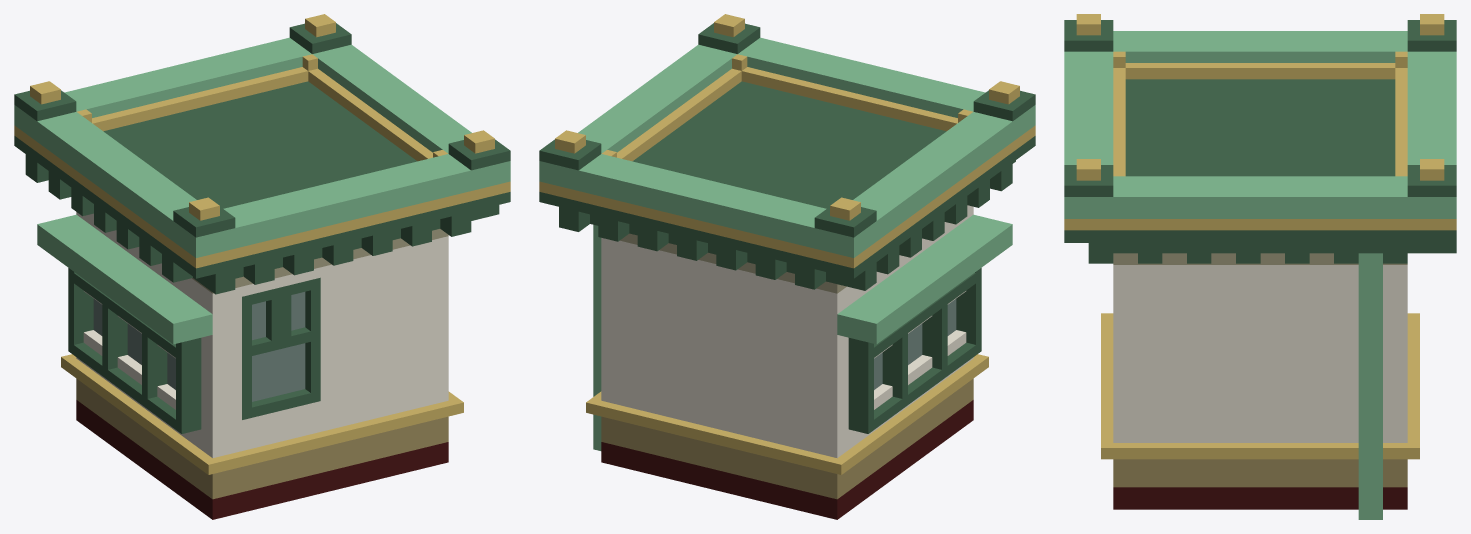
File: tile_1_alone_nb.obj
3 views of the same model, side by side, from view 1: azimuth 30°, elevation 25°; view 2: azimuth 150°, elevation 25°; view 3: azimuth 270°, elevation 25° (orthographic). The views are drawn at different scales.
Size of the model in its own units: 3.2 by 3.2 by 3.2.
